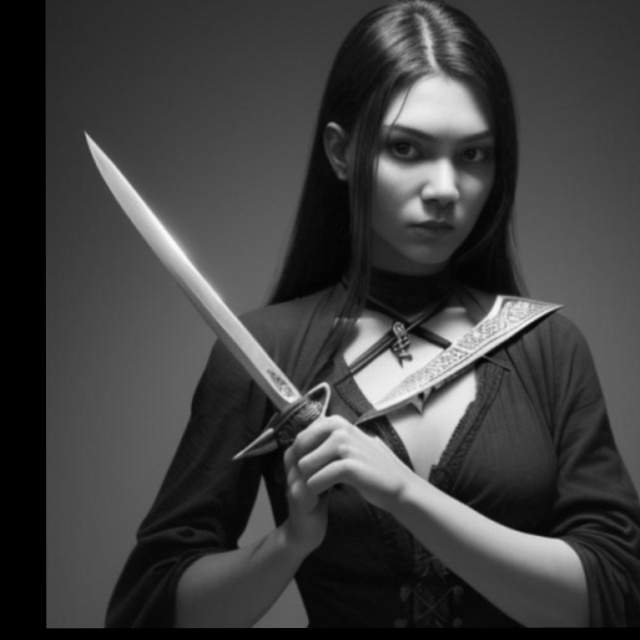Sharp-Object: (77, 125, 343, 466)
